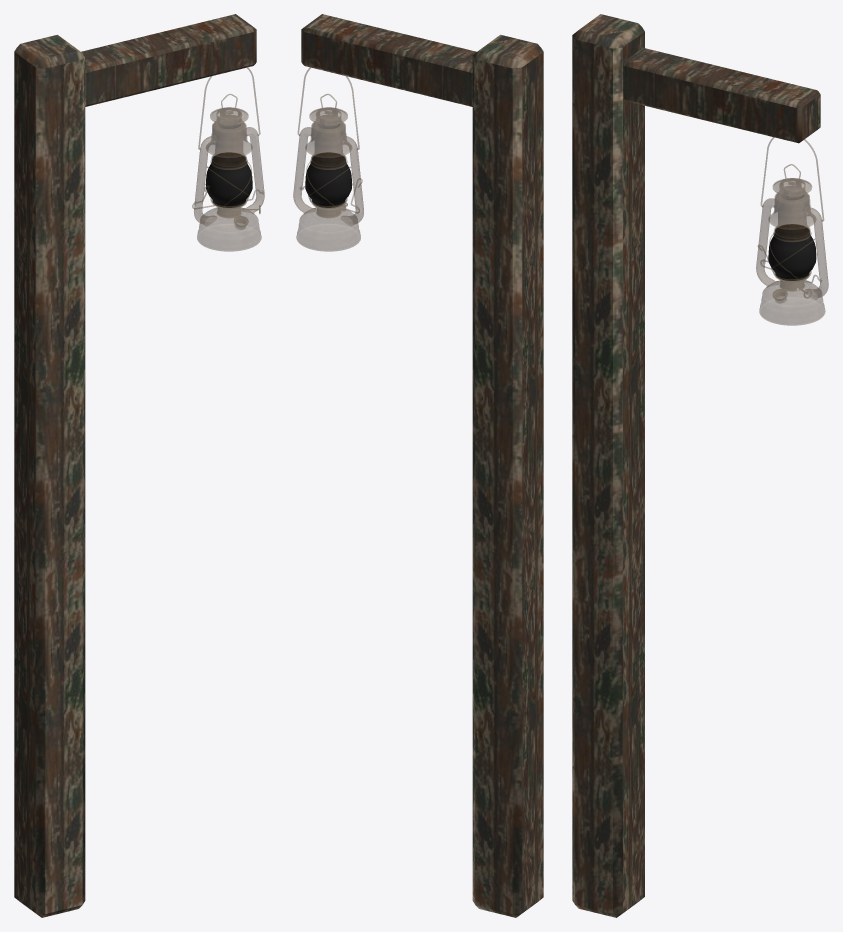
File: prop_lantern_post.glb
3 renders of one model, left to right at view 1: azimuth 30°, elevation 25°; view 2: azimuth 150°, elevation 25°; view 3: azimuth 330°, elevation 25°, orthographic. The views are drawn at different scales.
Visible parts, largest first — view 1: LanternPostWood, PROP_LanternPost; view 2: LanternPostWood, PROP_LanternPost; view 3: LanternPostWood, PROP_LanternPost.
Part boxes in pixels (bbox=[...]): LanternPostWood: bbox=[14, 14, 256, 917]; PROP_LanternPost: bbox=[192, 67, 264, 251]; LanternPostWood: bbox=[301, 14, 543, 917]; PROP_LanternPost: bbox=[293, 67, 363, 251]; LanternPostWood: bbox=[572, 14, 820, 917]; PROP_LanternPost: bbox=[756, 137, 828, 325].
Bounding box in the file's own units: 0.7742 × 2.65 × 0.1816.
3 materials, 3 textured.
